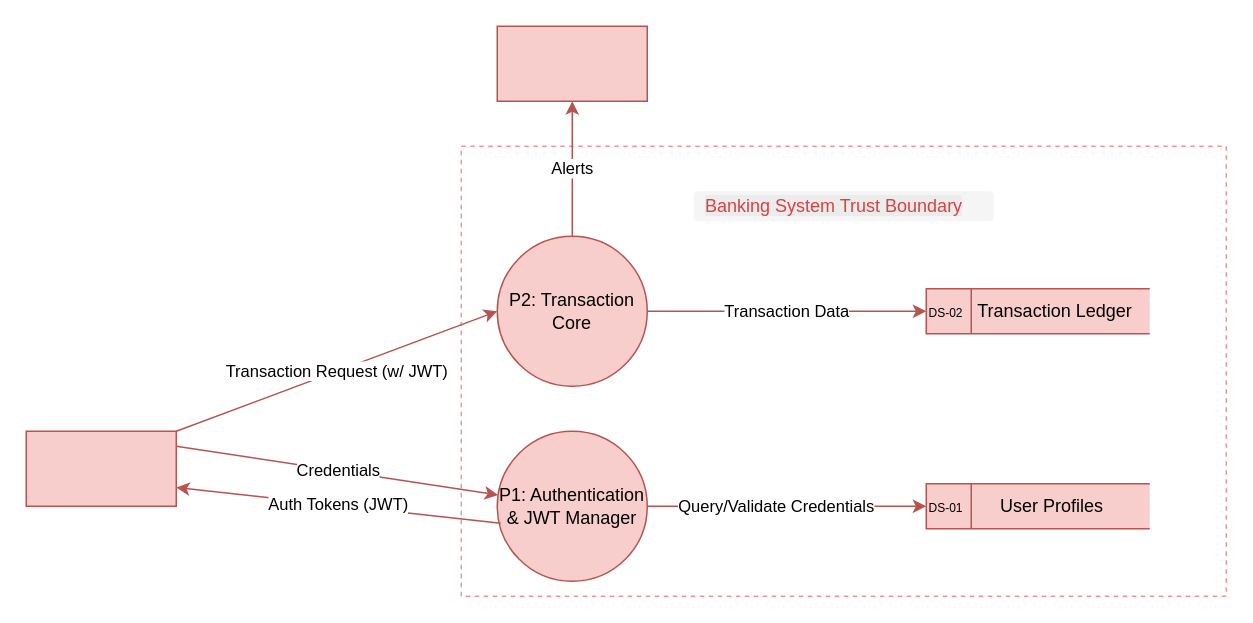
Image size: 1253x623. Some labels were removed from this diagram. Each missing label, with the centre of its shape:
"Costumer (User)" goes at (x=100, y=468).
"Email service" goes at (x=571, y=63).
